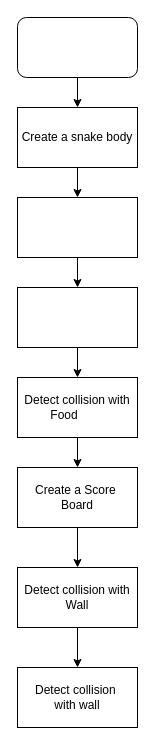
Image size: 155x745. Some labels were removed from this diagram. Each missing label, with the box of its shape:
Control the snake: (16, 286, 138, 348)
Move the snake: (16, 196, 138, 258)
Steps to create a Snake game!: (16, 16, 138, 78)
